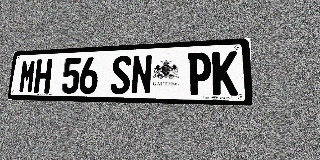5: (62, 58, 81, 94)
6: (79, 57, 99, 94)
H: (33, 59, 52, 94)
K: (212, 51, 238, 96)
M: (18, 60, 36, 93)
N: (130, 55, 152, 95)
P: (188, 52, 211, 95)
S: (110, 56, 132, 94)
